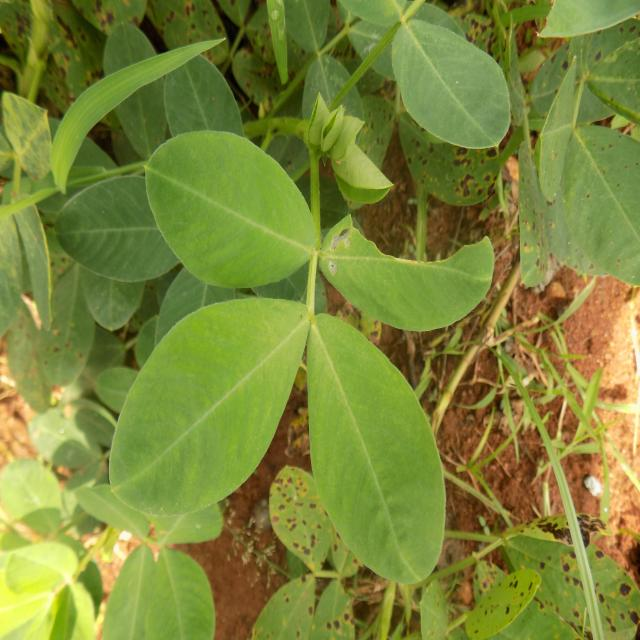Ground nut_healthy: (103, 296, 310, 512), (308, 311, 450, 577), (143, 131, 321, 286), (60, 171, 238, 282), (393, 12, 517, 150)
Ground nut_tikka leaf spot: (271, 459, 340, 573)
